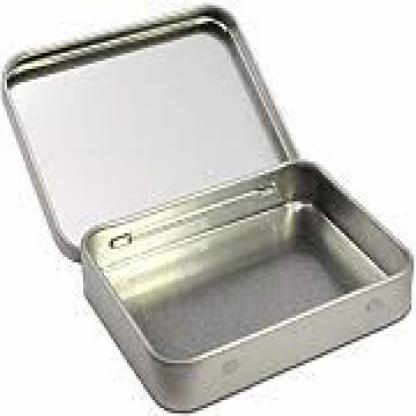METAL: (81, 156, 409, 411), (0, 3, 296, 257)
